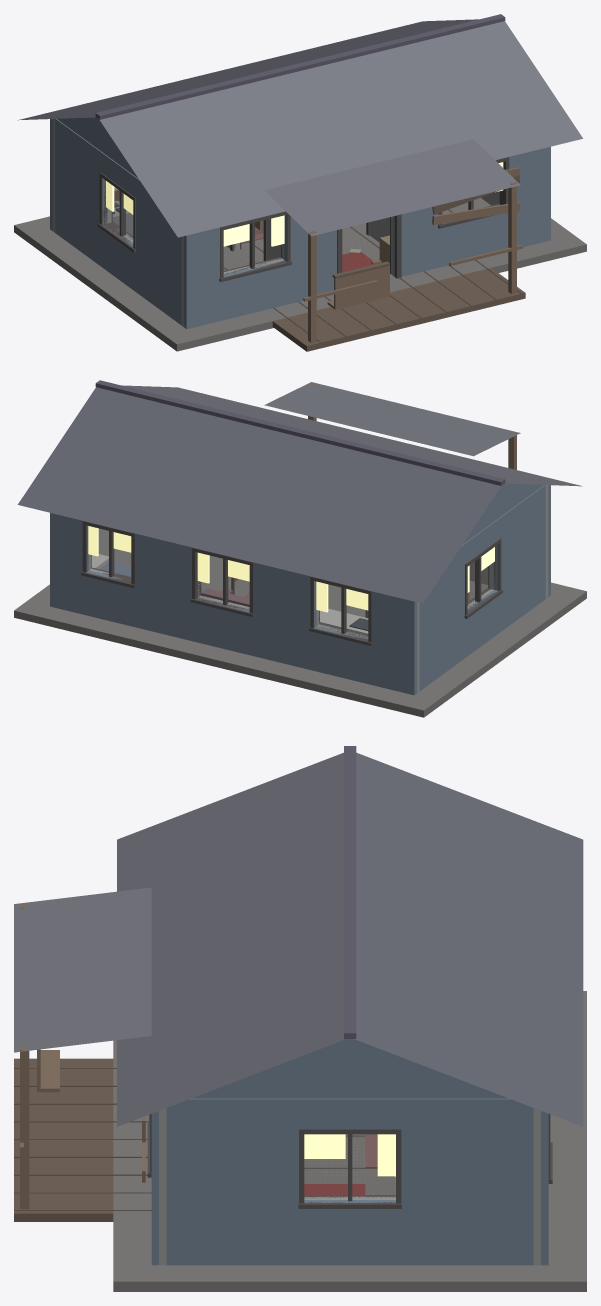
File: casa_10_bangalo_azul.glb
The picture shows the model from 3 angles, top to bottom: view 1: azimuth 30°, elevation 25°; view 2: azimuth 150°, elevation 25°; view 3: azimuth 270°, elevation 25°; orthographic projection. The views are drawn at different scales.
Parts seen in each view (by area): view 1: roof, wall_south, walls_exterior, exterior_props, floor, decor_grim, glass, walls_interior, furniture; view 2: roof, walls_exterior, floor, glass, furniture, walls_interior, wall_south; view 3: roof, walls_exterior, floor, exterior_props, wall_south, glass, decor_grim.
Part boxes in pixels (x1,y1,x2,y2): roof: (18, 14, 582, 237); wall_south: (181, 146, 550, 329); walls_exterior: (50, 119, 499, 324); exterior_props: (272, 182, 525, 351); floor: (14, 198, 586, 351); decor_grim: (342, 167, 520, 272); glass: (106, 162, 503, 246); walls_interior: (226, 217, 389, 260); furniture: (112, 187, 389, 262); roof: (17, 380, 582, 603); walls_exterior: (50, 485, 545, 695); floor: (14, 556, 586, 717); glass: (88, 526, 494, 612); furniture: (92, 554, 469, 635); walls_interior: (201, 555, 368, 618); wall_south: (469, 485, 550, 598); roof: (14, 746, 583, 1126); walls_exterior: (166, 1098, 552, 1265); floor: (113, 991, 586, 1291); exterior_props: (14, 904, 151, 1221); wall_south: (147, 1108, 166, 1265); glass: (304, 1134, 395, 1176); decor_grim: (142, 1116, 395, 1194).
Size of the model in its own units: 9 by 3.71 by 7.5.
